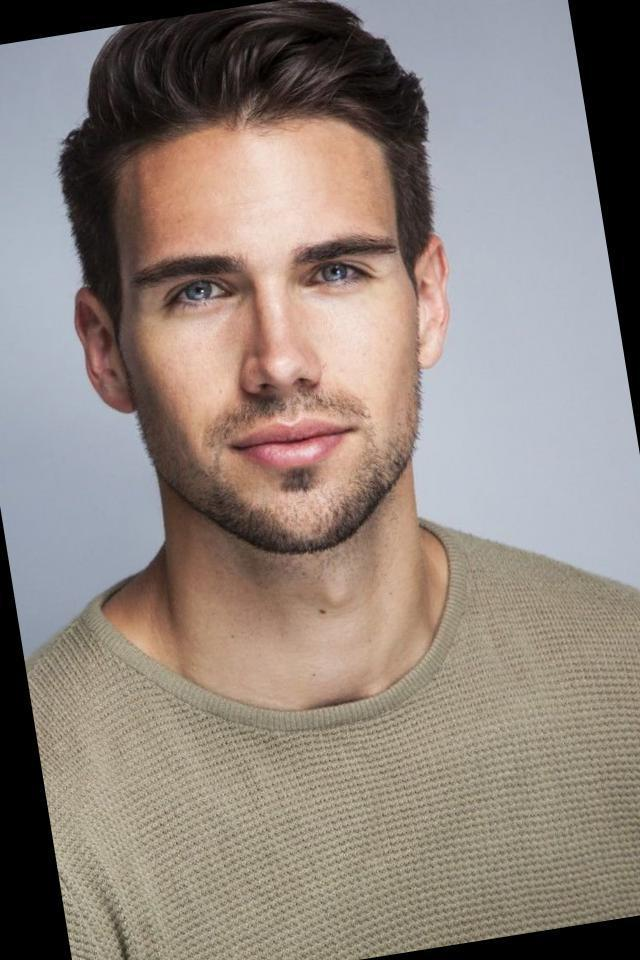Sober: (121, 122, 412, 537)
